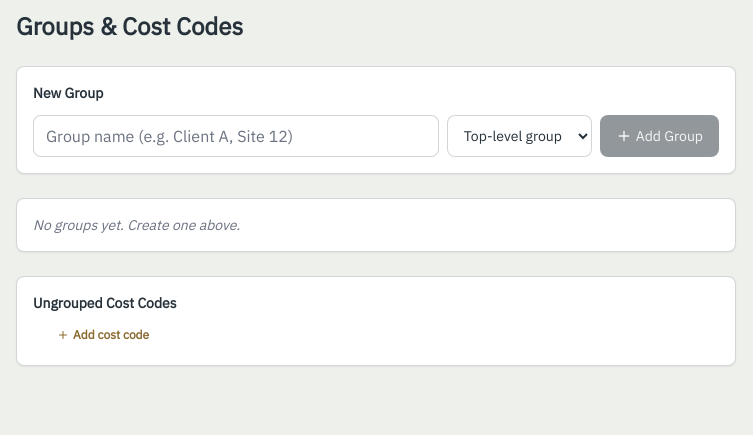
Test case: GroupsAndCodes › creates a top-level group
In the field with placeholder "Group name (e.g. Client A, Site 12)": (236, 136) [33, 115, 439, 157], type "Client A"
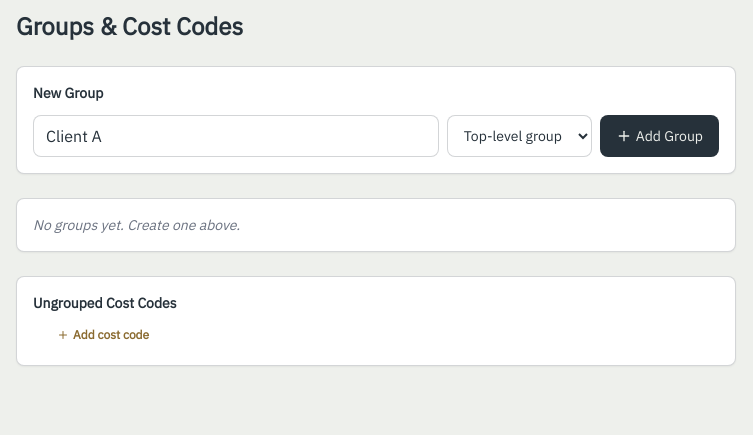
Click the button "Add Group": click(659, 136) [600, 115, 719, 157]
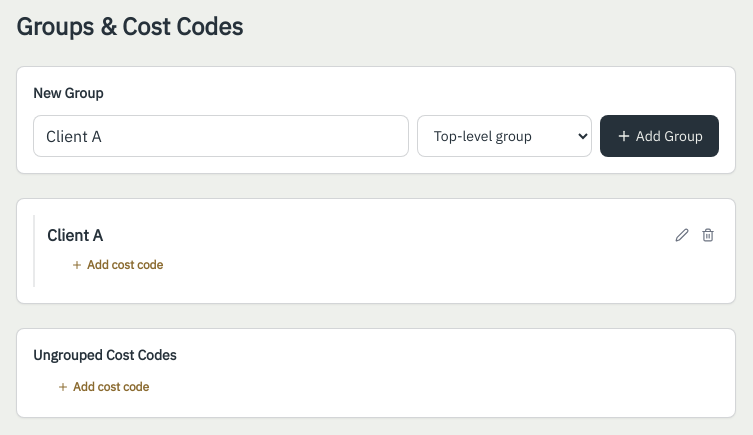
Check: the text "Client A" is shown, box [47, 223, 103, 247]
